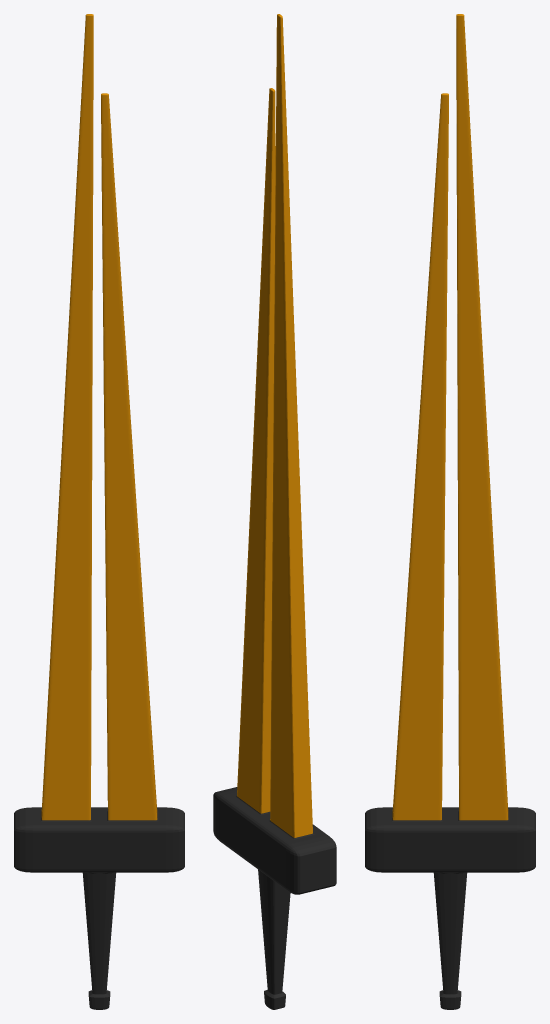
Rendered from swordy.fbx.
3 renders of one model, left to right at view 1: azimuth 90°, elevation 25°; view 2: azimuth 210°, elevation 25°; view 3: azimuth 270°, elevation 25°, orthographic.
Visible parts, largest first — view 1: Cube; view 2: Cube; view 3: Cube.
Boxes of the visible parts, box(x1,y1,x2,y2) form: Cube: box(14, 14, 184, 1009); Cube: box(213, 14, 336, 1009); Cube: box(365, 14, 535, 1009).
Bounding box in the file's own units: 65.13 × 1374 × 214.
